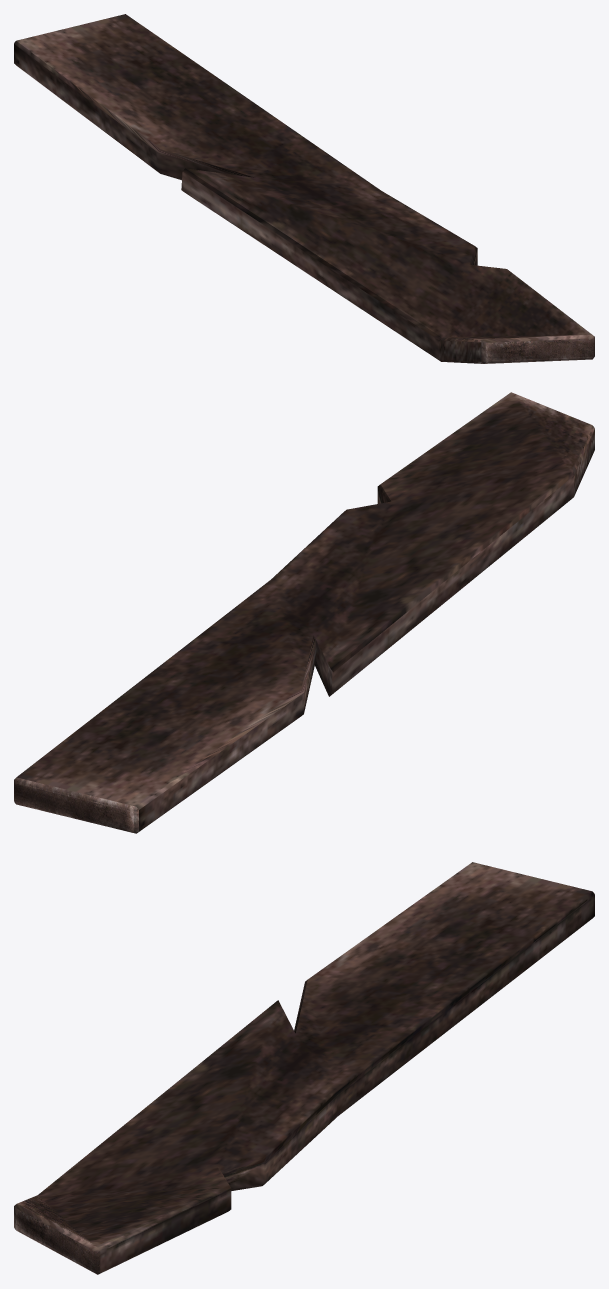
File: wooden_board02.dae
3 views of the same model, one above another, from view 1: azimuth 30°, elevation 25°; view 2: azimuth 150°, elevation 25°; view 3: azimuth 330°, elevation 25° (orthographic). The views are drawn at different scales.
Parts seen in each view (by area): view 1: pCube2; view 2: pCube2; view 3: pCube2.
Boxes of the visible parts, left/top/right/bottom form: pCube2: left=14, top=14, right=594, bottom=363; pCube2: left=14, top=392, right=594, bottom=833; pCube2: left=14, top=862, right=594, bottom=1274.
Bounding box in the file's own units: 0.2668 × 0.0763 × 1.49.
